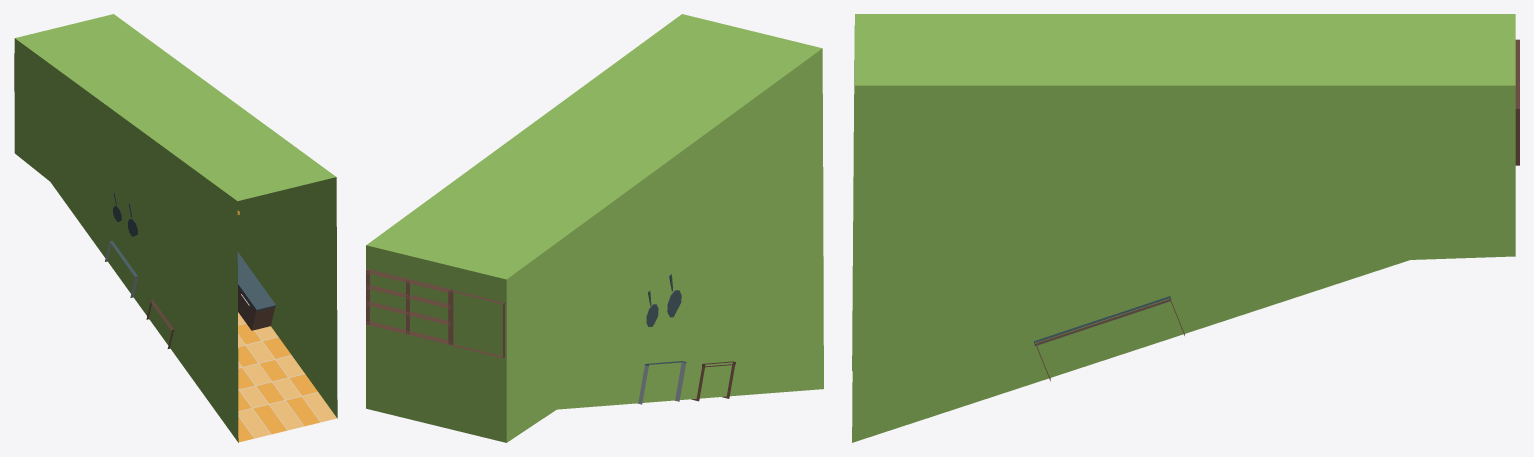
The model's file is _itchen.fbx.
3 views of the same model, side by side, from view 1: azimuth 30°, elevation 25°; view 2: azimuth 150°, elevation 25°; view 3: azimuth 270°, elevation 25° (orthographic). The views are drawn at different scales.
Visible parts, largest first — view 1: Kitchen; view 2: Kitchen; view 3: Kitchen.
Boxes of the visible parts, <box> form: Kitchen: <box>14,14,337,442</box>; Kitchen: <box>366,14,823,442</box>; Kitchen: <box>852,14,1519,442</box>.
Bounding box in the file's own units: 3593 × 7858 × 13312.
